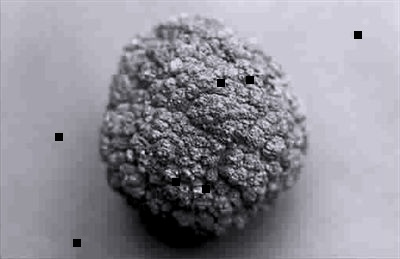halobolite: (87, 12, 313, 244)
